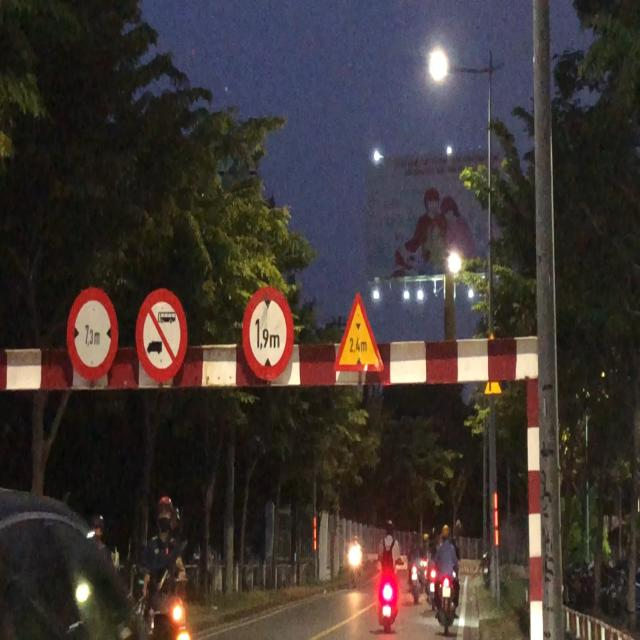Bien bao cam xe oto khach va xe oto tai: (132, 284, 195, 397)
Bien bao chieu cao tinh khong thuc te: (330, 291, 384, 386)
Bien bao han che chieu cao: (243, 284, 294, 387)
